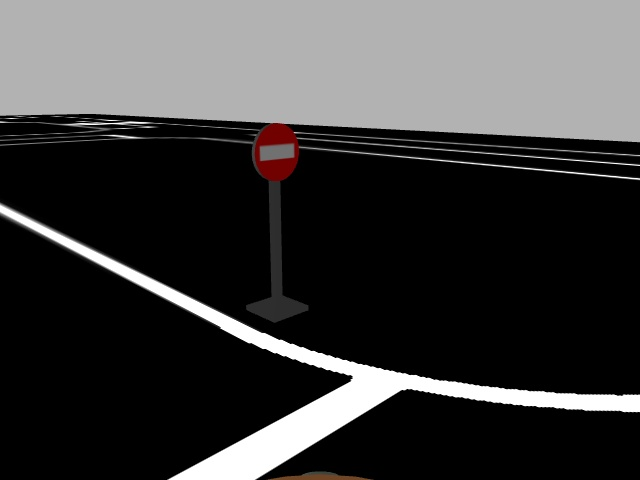prohibited: (249, 122, 302, 183)
